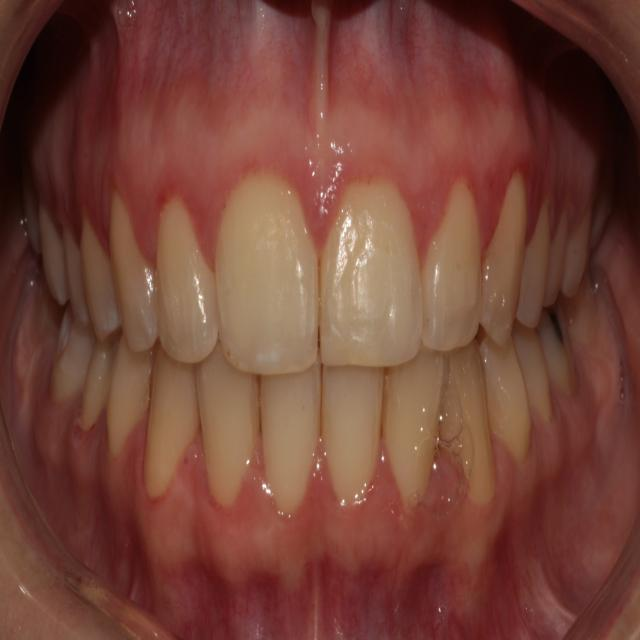tooth: (314, 182, 431, 364), (214, 175, 323, 366), (154, 175, 228, 354), (145, 351, 221, 508), (422, 192, 491, 340), (259, 380, 327, 512), (329, 369, 388, 502), (198, 360, 252, 502), (488, 196, 540, 340), (487, 321, 539, 457), (106, 198, 156, 339), (450, 350, 495, 498), (397, 361, 442, 484), (109, 336, 148, 444), (80, 225, 113, 324)
